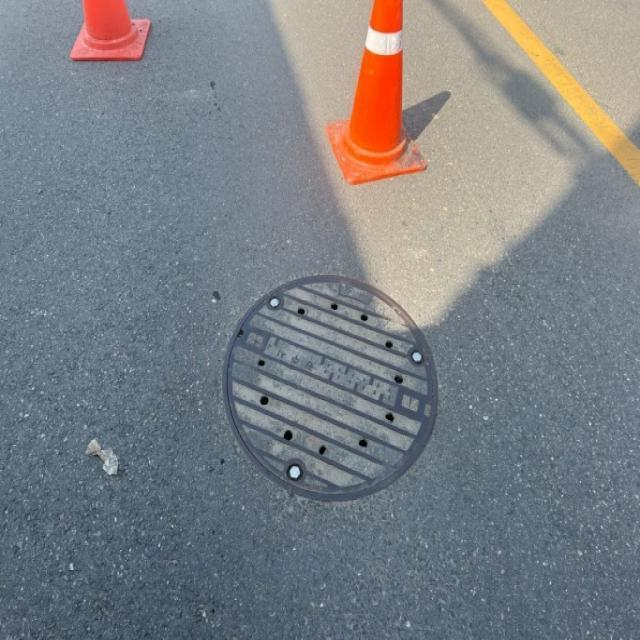manhole: (222, 274, 440, 505)
